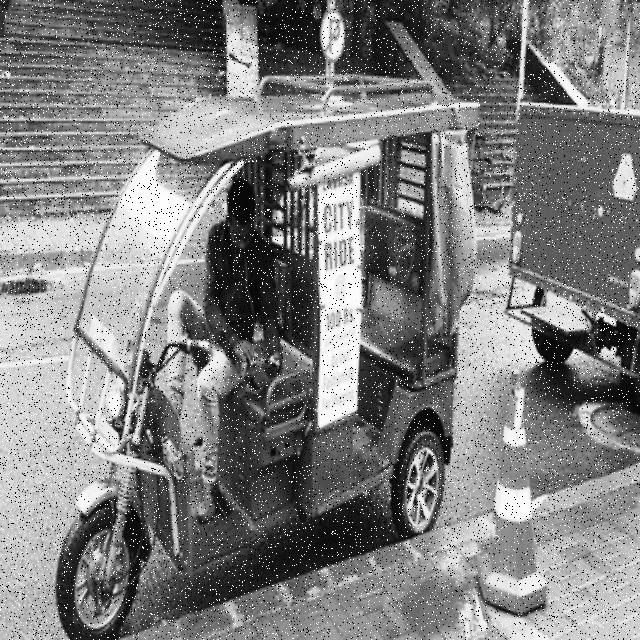Toto: (65, 65, 478, 640)
